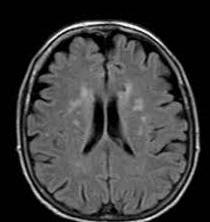Normal_Brain: (5, 1, 210, 222)
